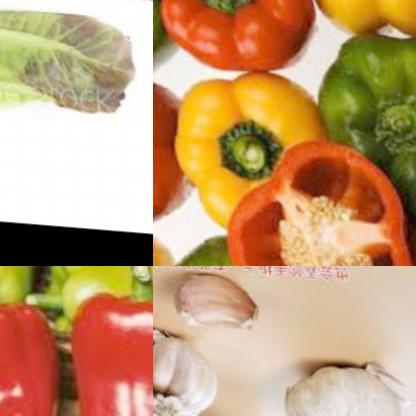bell pepper: (164, 55, 330, 235), (214, 129, 410, 266), (299, 18, 416, 203), (153, 0, 327, 77), (65, 266, 153, 416), (0, 281, 67, 416), (42, 266, 153, 344), (153, 232, 343, 266), (153, 70, 188, 235), (333, 203, 416, 266), (294, 0, 416, 31)
garlic: (274, 356, 411, 416), (166, 266, 266, 335), (153, 320, 220, 416)
salad: (0, 0, 143, 114)
